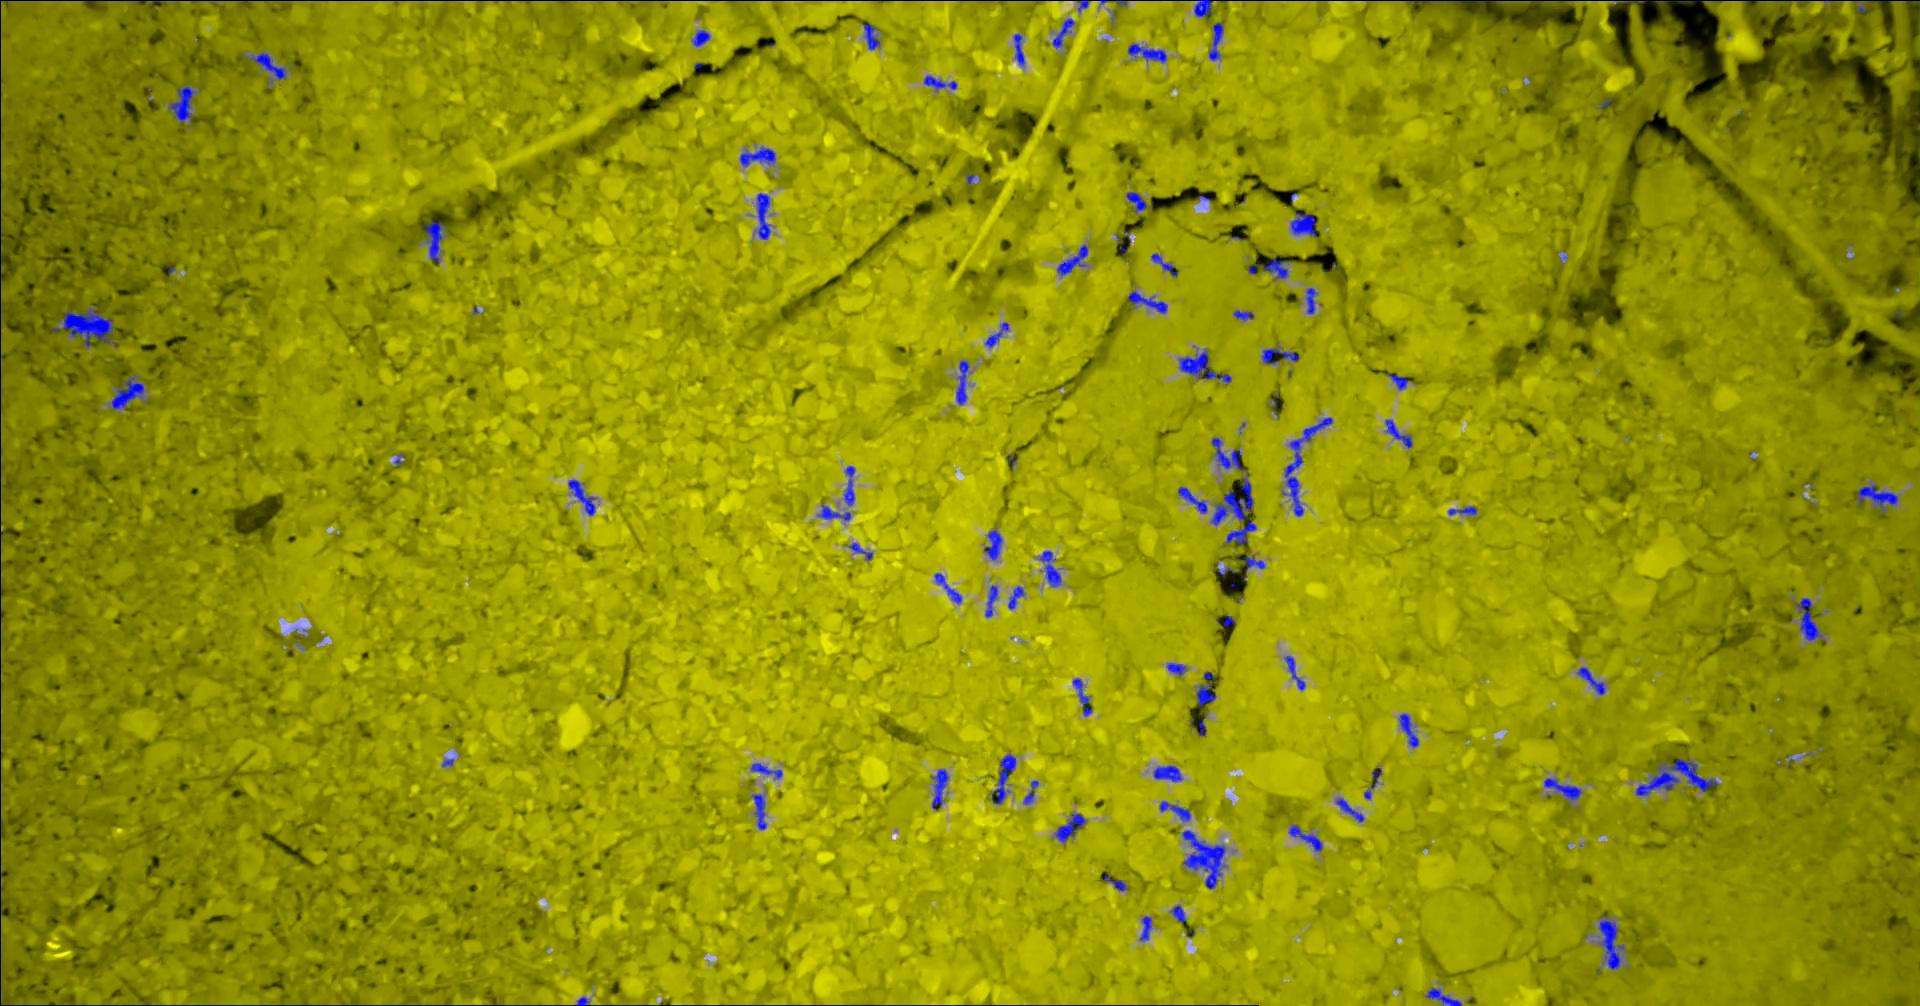ant: (1284, 417, 1335, 516), (1180, 351, 1233, 382), (1600, 915, 1625, 969), (993, 754, 1017, 803), (1798, 597, 1823, 640), (248, 52, 288, 79), (113, 376, 145, 409), (1213, 437, 1244, 470), (1858, 485, 1898, 511), (1058, 244, 1090, 276), (569, 479, 597, 514), (170, 86, 197, 123), (425, 220, 448, 262), (1129, 290, 1170, 312), (1057, 813, 1087, 842), (1290, 824, 1323, 851), (1385, 419, 1415, 448), (936, 572, 963, 603), (1578, 666, 1608, 694), (1178, 486, 1209, 513), (1545, 777, 1582, 799), (756, 192, 772, 239), (1041, 550, 1063, 586), (1129, 43, 1168, 62), (1074, 677, 1093, 715), (742, 146, 777, 166), (1399, 713, 1420, 747), (1291, 211, 1318, 236), (1337, 796, 1365, 821), (933, 768, 950, 809), (1054, 18, 1076, 48), (1197, 671, 1217, 705), (1161, 800, 1192, 821), (1427, 987, 1463, 1005), (1263, 348, 1302, 365), (1286, 655, 1305, 688), (985, 323, 1010, 347), (1210, 22, 1225, 60), (1153, 253, 1178, 276), (957, 359, 970, 404), (985, 528, 1003, 559), (1265, 257, 1289, 278), (754, 793, 768, 829), (819, 504, 852, 520), (752, 763, 783, 779), (844, 465, 856, 506), (865, 22, 881, 50), (924, 75, 957, 89), (985, 584, 999, 617), (1156, 765, 1183, 781), (1103, 873, 1128, 890), (1128, 191, 1148, 211), (850, 542, 874, 559), (1243, 555, 1266, 572), (1010, 586, 1026, 608), (1025, 780, 1040, 804), (1015, 33, 1026, 65), (1388, 373, 1410, 389), (1307, 287, 1319, 312), (1195, 0, 1214, 17), (693, 29, 712, 46), (1173, 904, 1189, 923), (1142, 915, 1153, 940), (1449, 506, 1478, 514), (1168, 662, 1187, 674), (1371, 767, 1383, 788), (1236, 309, 1255, 319), (1199, 715, 1208, 735), (1098, 0, 1128, 5), (1408, 0, 1502, 1)
